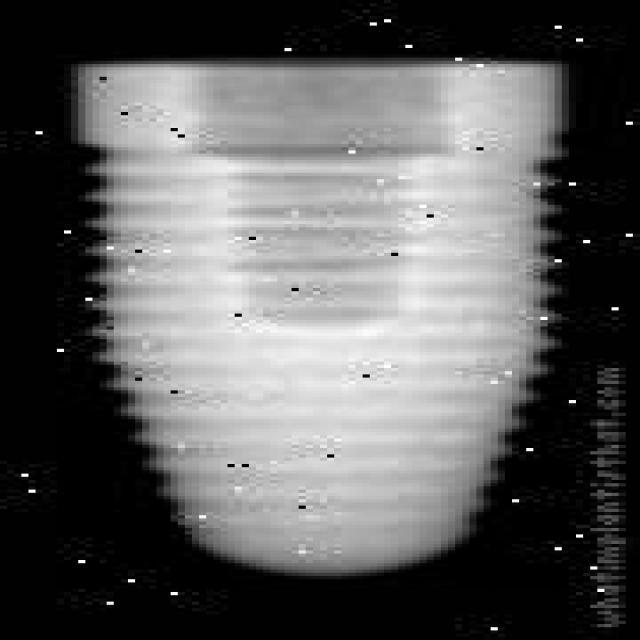OCO Biomedical Implant: (67, 60, 569, 584)
